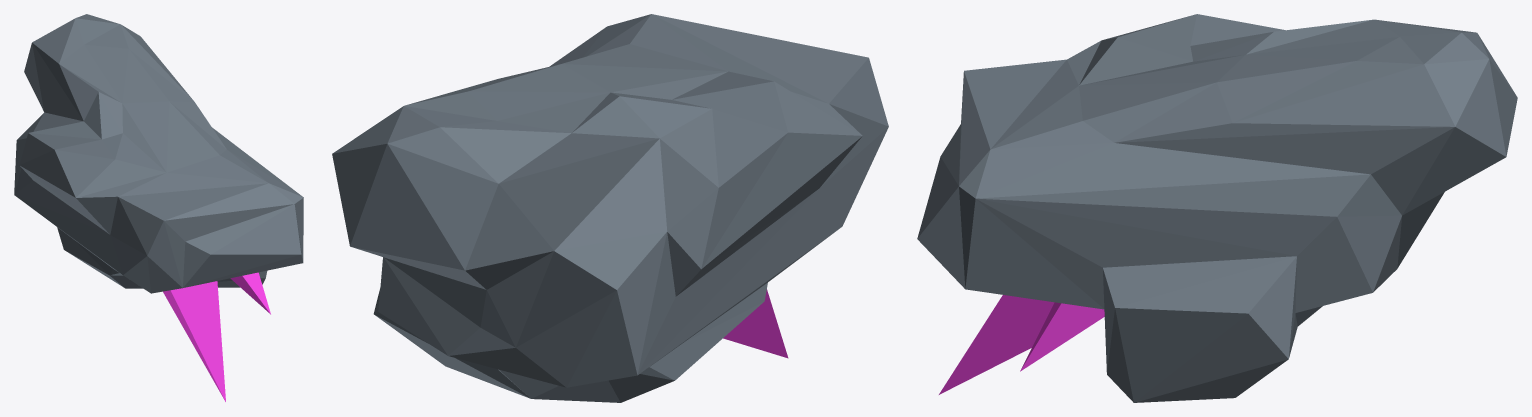
File: Rock_Crystal_2.fbx
3 views of the same model, side by side, from view 1: azimuth 30°, elevation 25°; view 2: azimuth 150°, elevation 25°; view 3: azimuth 270°, elevation 25° (orthographic). The views are drawn at different scales.
Visible parts, largest first — view 1: Cube.021, Cube.015, Cube.016; view 2: Cube.021, Cube.015; view 3: Cube.021, Cube.015, Cube.016.
Part boxes in pixels (box(x1,y1,x2,y2)): Cube.021: box(14, 14, 303, 293); Cube.015: box(163, 281, 225, 401); Cube.016: box(230, 272, 270, 314); Cube.021: box(332, 14, 888, 402); Cube.015: box(723, 289, 788, 358); Cube.021: box(917, 14, 1517, 402); Cube.015: box(939, 295, 1054, 394); Cube.016: box(1020, 302, 1104, 371).
Size of the model in its own units: 150 by 167 by 239.
